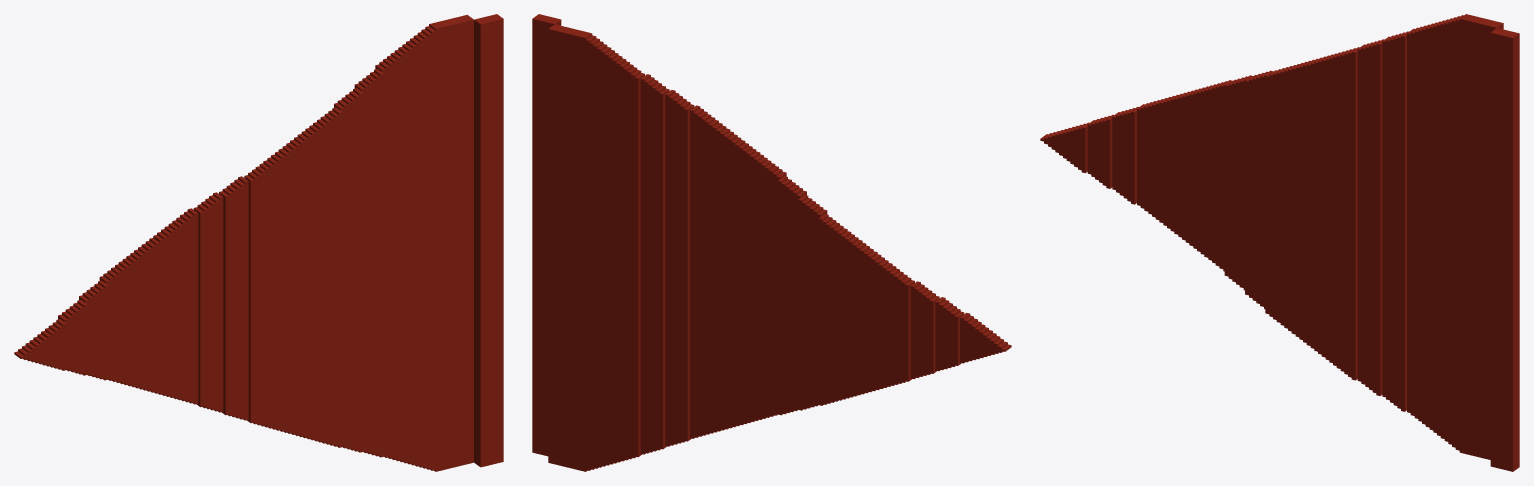
File: flag_full10-0.obj
The picture shows the model from 3 angles, left to right: view 1: azimuth 30°, elevation 25°; view 2: azimuth 150°, elevation 25°; view 3: azimuth 330°, elevation 25°; orthographic projection. The views are drawn at different scales.
Size of the model in its own units: 25.2 by 22.1 by 1.2.
1 material, 1 textured.
